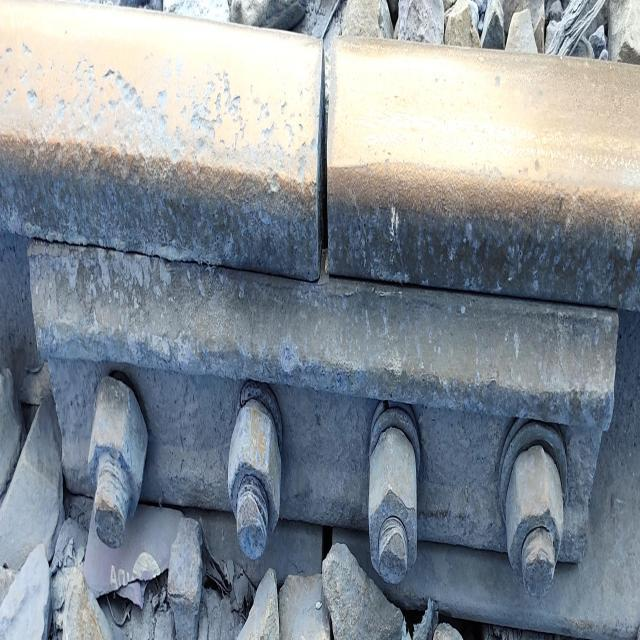Good Joint: (31, 249, 612, 597)
